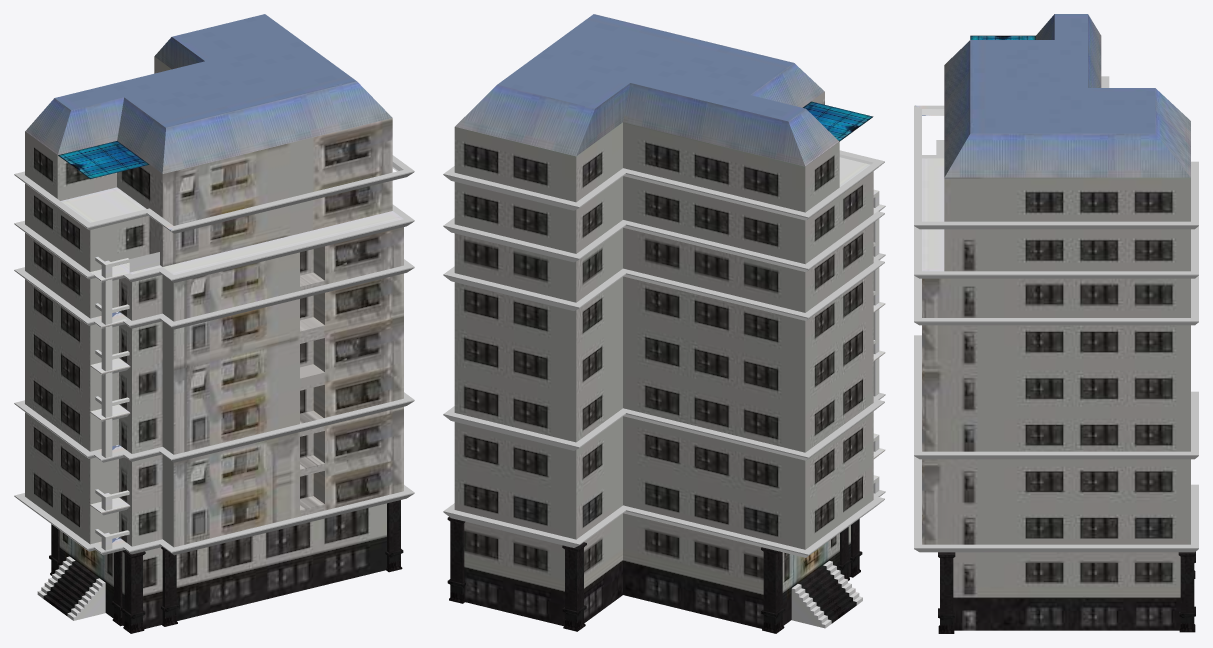
3 views of the same model, side by side, from view 1: azimuth 30°, elevation 25°; view 2: azimuth 150°, elevation 25°; view 3: azimuth 270°, elevation 25° (orthographic). The views are drawn at different scales.
Visible parts, largest first — view 1: HN874___Poonsa_Serviced_Apartments; view 2: HN874___Poonsa_Serviced_Apartments; view 3: HN874___Poonsa_Serviced_Apartments.
Boxes of the visible parts, bbox=[...] form: HN874___Poonsa_Serviced_Apartments: bbox=[14, 14, 414, 633]; HN874___Poonsa_Serviced_Apartments: bbox=[443, 14, 885, 633]; HN874___Poonsa_Serviced_Apartments: bbox=[914, 14, 1198, 633].
Size of the model in its own units: 15.74 by 23.93 by 12.71.
1 material, 1 textured.
